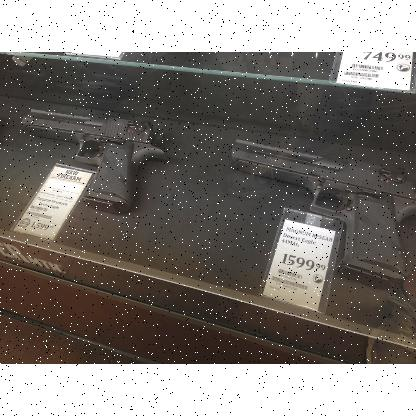gun: (231, 138, 415, 289), (22, 108, 164, 214)
